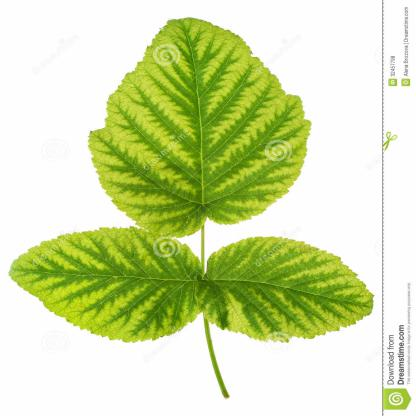raspberry leaf: (80, 14, 330, 235), (4, 227, 210, 346), (207, 235, 377, 349)
